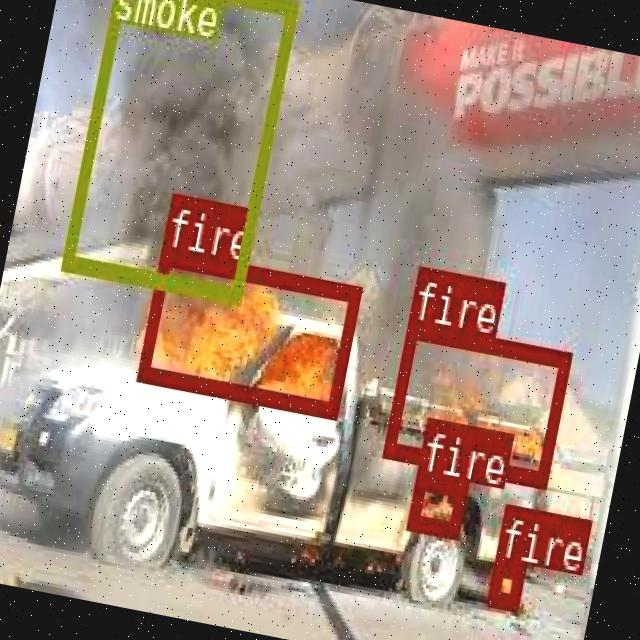fire: (136, 246, 359, 416), (381, 318, 570, 484), (406, 468, 467, 534), (484, 558, 523, 608)
smoke: (61, 0, 296, 302)
